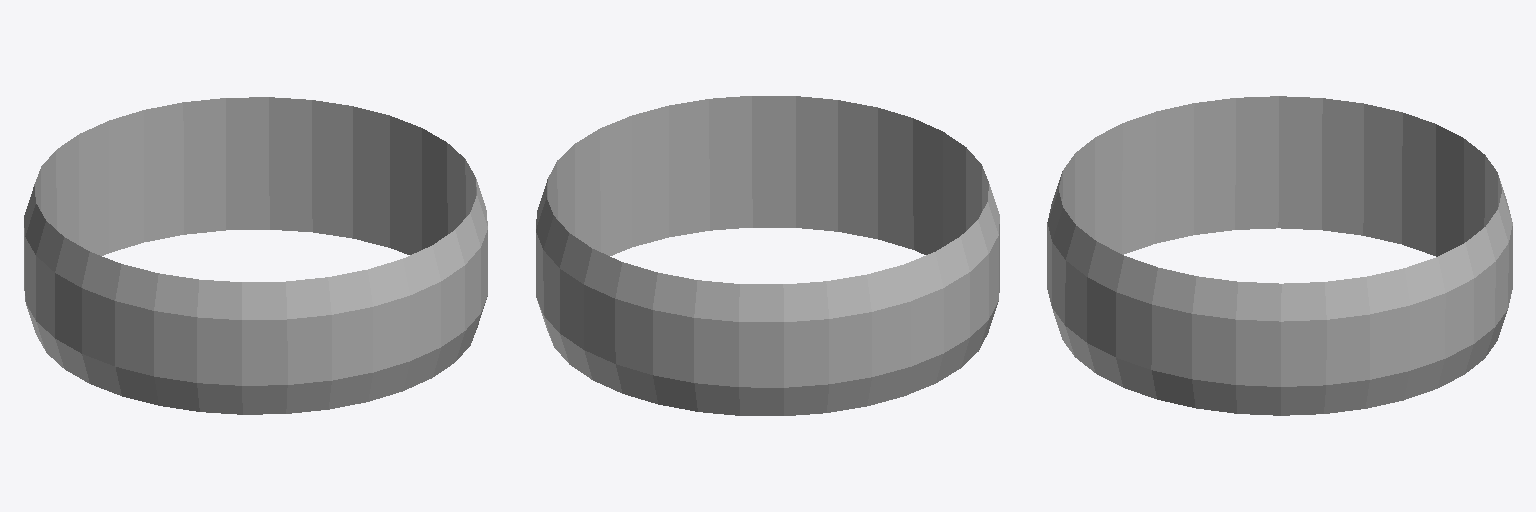
File: SpaceStation2.obj
3 views of the same model, side by side, from view 1: azimuth 30°, elevation 25°; view 2: azimuth 150°, elevation 25°; view 3: azimuth 270°, elevation 25° (orthographic).
Visible parts, largest first — view 1: pTorus1; view 2: pTorus1; view 3: pTorus1.
Part boxes in pixels (bbox=[...]): pTorus1: bbox=[24, 97, 487, 414]; pTorus1: bbox=[536, 96, 999, 415]; pTorus1: bbox=[1047, 96, 1512, 415].
Size of the model in its own units: 30.79 by 9.83 by 30.82.